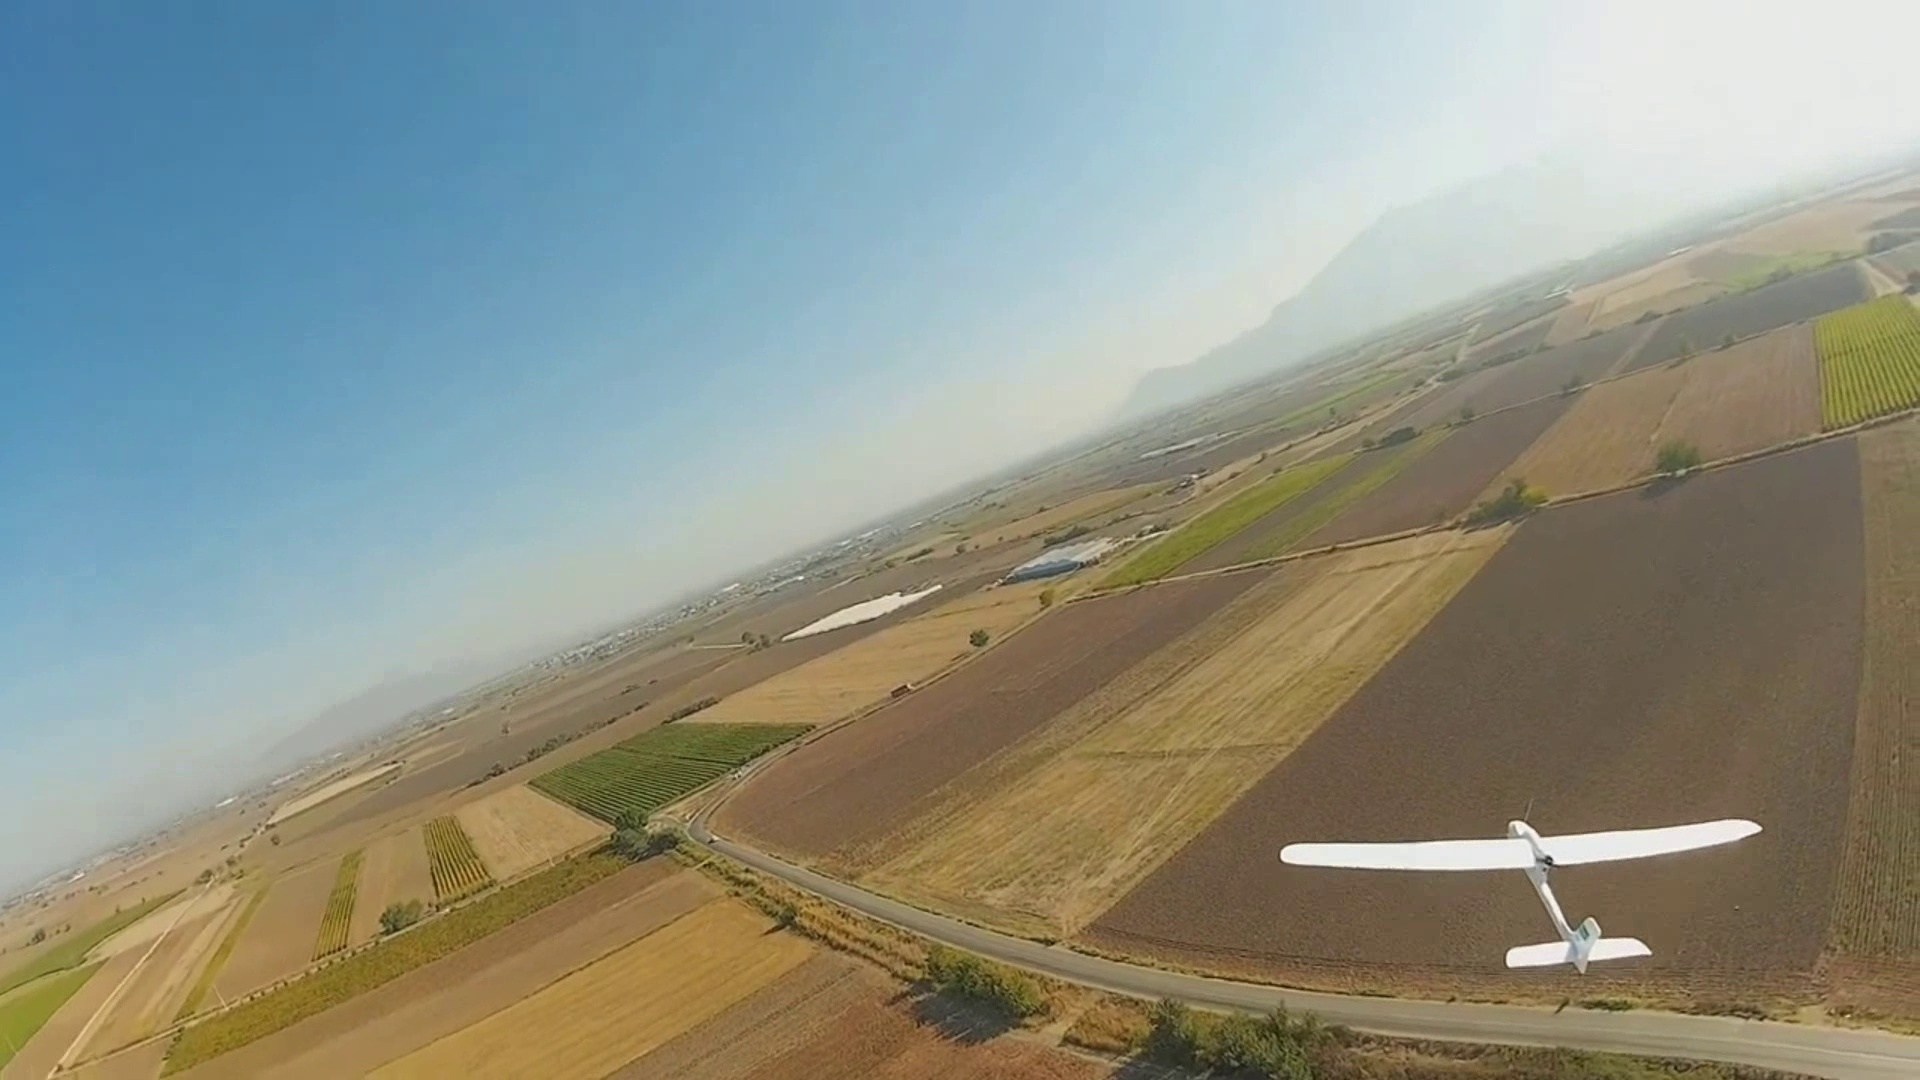airplane: (1280, 815, 1763, 975)
